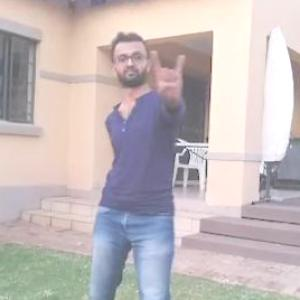takeoff-hand: (150, 41, 190, 106)
